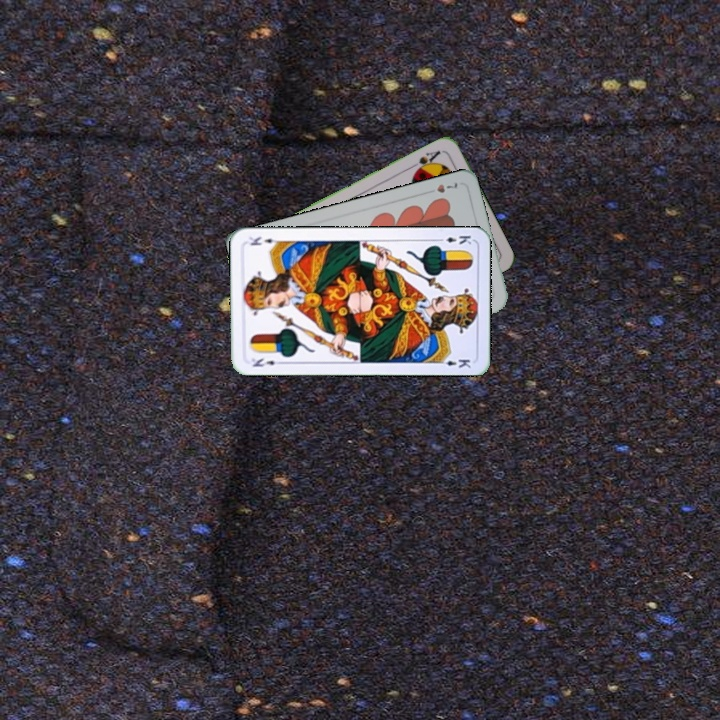EK: (433, 231, 474, 246), (248, 354, 285, 370)
H7: (422, 179, 461, 196)
SA: (407, 146, 443, 176)
